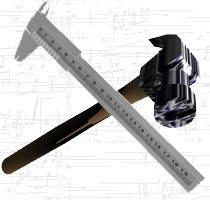hammer: (0, 32, 201, 174)
